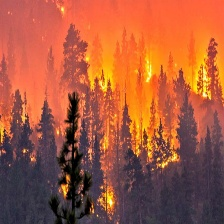fire: (143, 134, 182, 171), (87, 53, 112, 92), (192, 62, 213, 97), (95, 184, 117, 212), (136, 53, 154, 84), (59, 176, 76, 202)
smoke: (3, 1, 221, 77)
